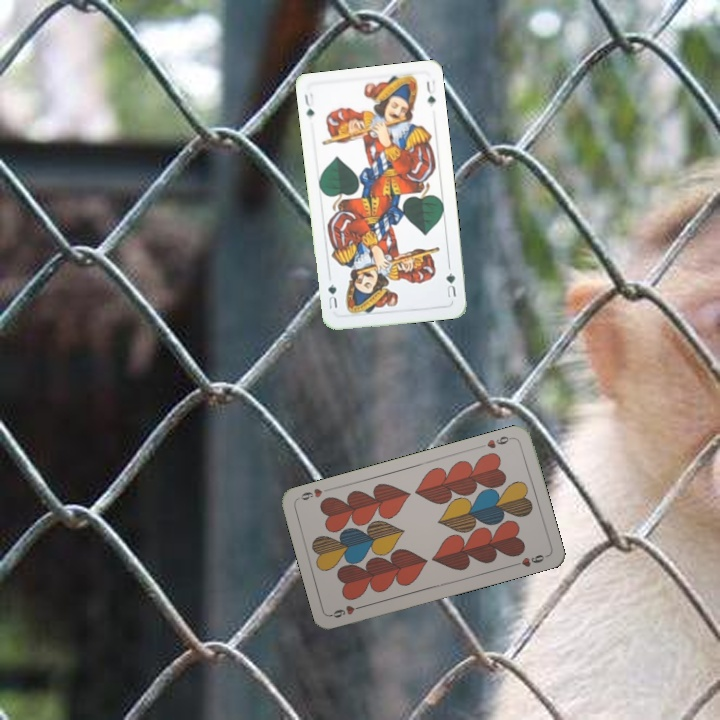GU: (442, 268, 459, 300), (300, 88, 317, 119)
H9: (327, 601, 367, 621), (476, 432, 516, 451)
